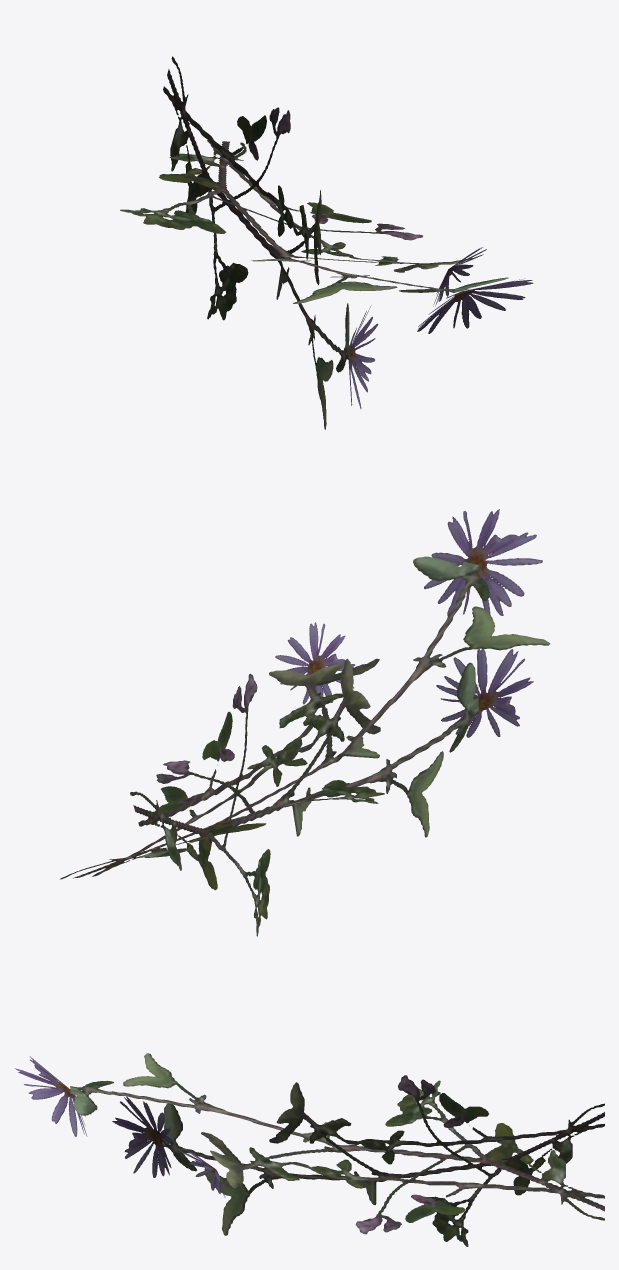
Rendered from nt_2020_foliage_plants_flowers03_LOD0.obj.
3 renders of one model, top to bottom at view 1: azimuth 30°, elevation 25°; view 2: azimuth 150°, elevation 25°; view 3: azimuth 270°, elevation 25°, orthographic. The views are drawn at different scales.
Parts seen in each view (by area): view 1: t5_foliage_flowers03; view 2: t5_foliage_flowers03; view 3: t5_foliage_flowers03.
Boxes of the visible parts, x1,y1,x2,y2 form: t5_foliage_flowers03: (120,56,533,429); t5_foliage_flowers03: (60,509,550,936); t5_foliage_flowers03: (15,1053,604,1246).
Bounding box in the file's own units: 66.32 × 55.12 × 147.
1 material, 1 textured.
